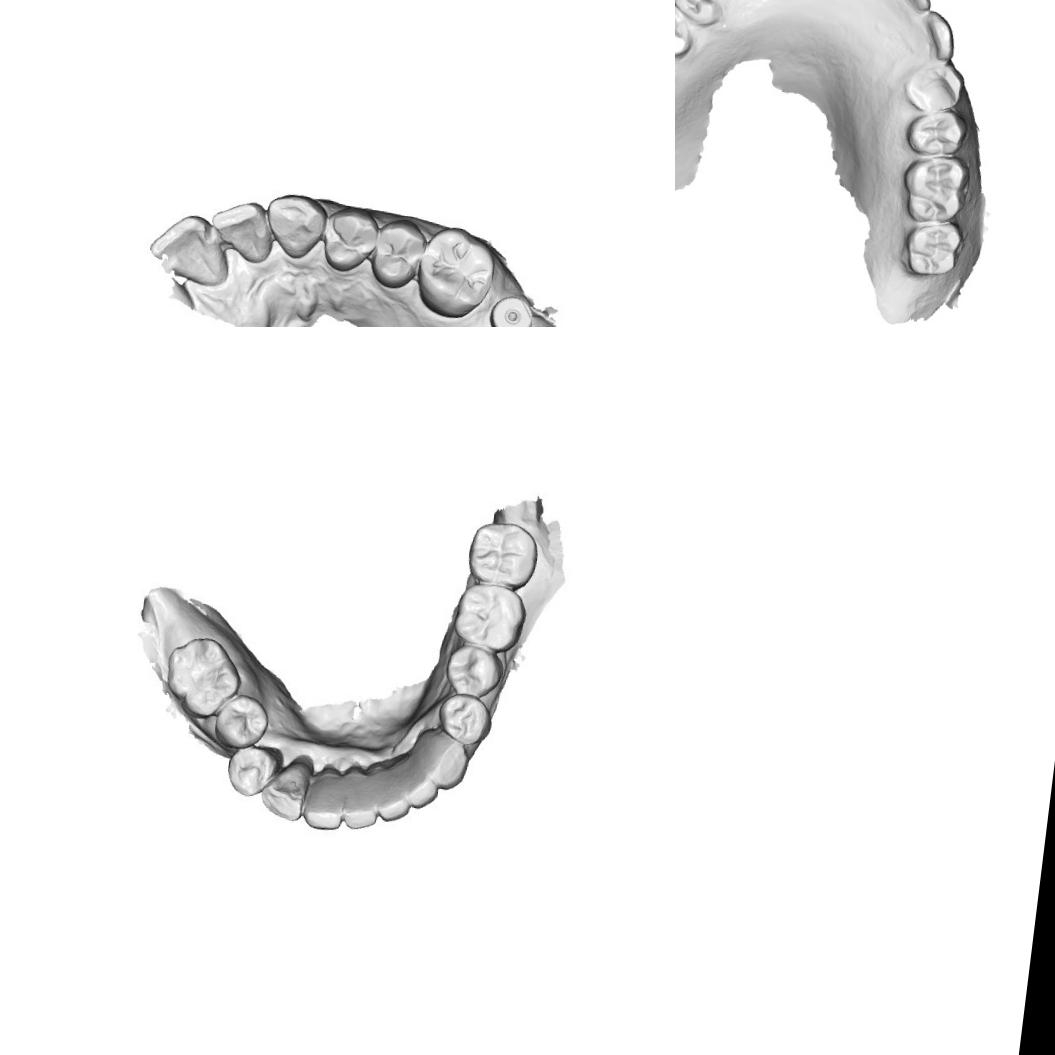canine: (262, 192, 327, 262), (413, 727, 475, 792), (268, 756, 312, 818), (916, 5, 960, 61)
implant: (488, 293, 535, 327)
incisor: (144, 209, 233, 288), (212, 202, 280, 270), (300, 763, 352, 835), (338, 763, 386, 836), (370, 766, 419, 828), (392, 761, 440, 812), (892, 0, 940, 19)
molar: (408, 221, 506, 323), (158, 630, 246, 722), (897, 150, 973, 226), (465, 516, 540, 592), (452, 581, 524, 652), (897, 217, 970, 283)
premolar: (319, 206, 380, 276), (368, 220, 424, 290), (900, 59, 966, 118), (440, 644, 504, 704), (902, 105, 968, 161), (210, 693, 272, 752), (433, 690, 492, 745), (224, 742, 280, 797), (675, 0, 705, 67), (675, 0, 727, 27)
